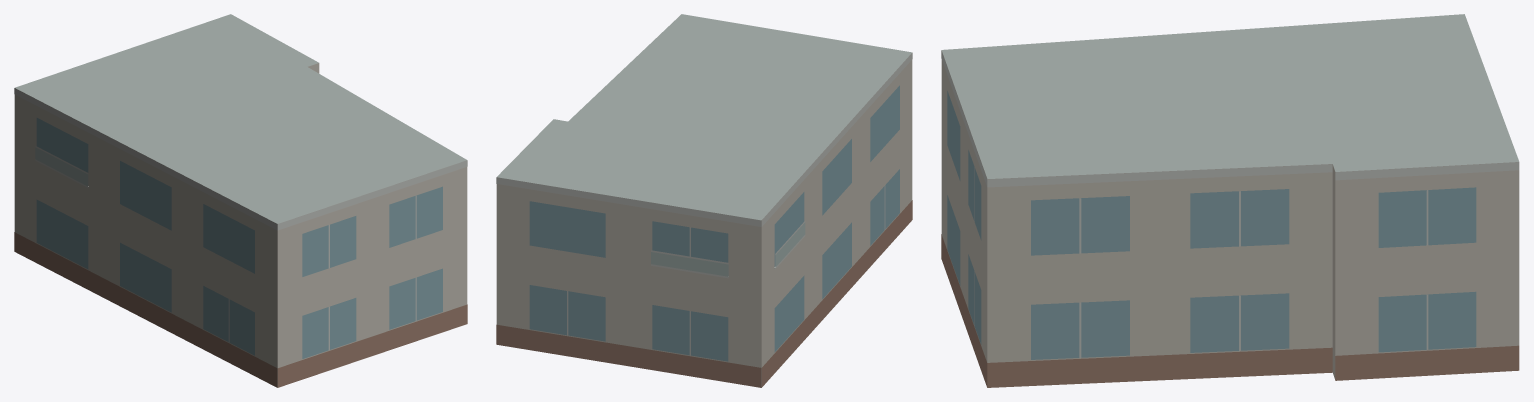
Rendered from survey-upis-32703462.glb.
3 views of the same model, side by side, from view 1: azimuth 30°, elevation 25°; view 2: azimuth 150°, elevation 25°; view 3: azimuth 270°, elevation 25° (orthographic). The views are drawn at different scales.
Visible parts, largest first — view 1: survey-upis-32703462.tmp; view 2: survey-upis-32703462.tmp; view 3: survey-upis-32703462.tmp.
Part boxes in pixels (<box>): survey-upis-32703462.tmp: <box>14,14,467,387</box>; survey-upis-32703462.tmp: <box>496,14,912,387</box>; survey-upis-32703462.tmp: <box>941,14,1519,387</box>.
Bounding box in the file's own units: 10.36 × 6.1 × 15.32.
